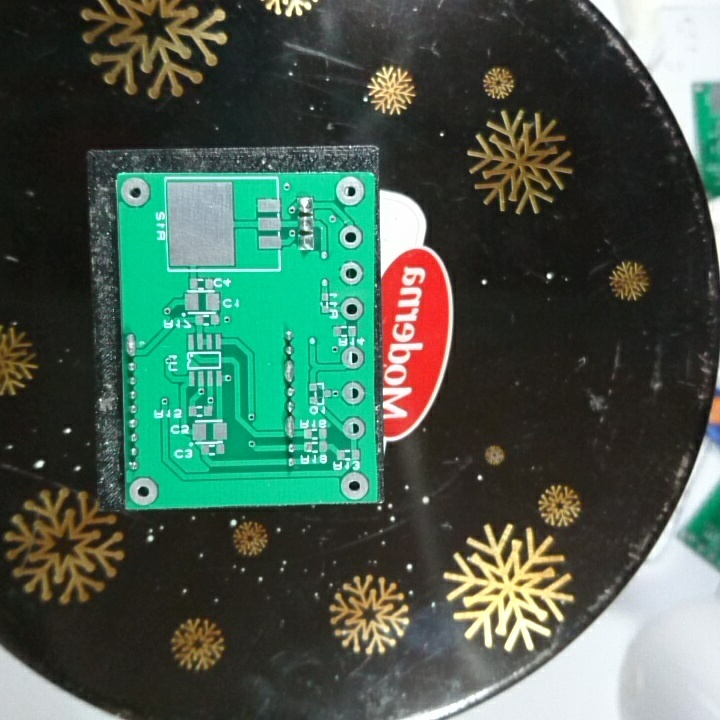F: (119, 175, 152, 209), (334, 175, 366, 207), (128, 475, 159, 507), (339, 470, 370, 499), (337, 223, 365, 252), (338, 295, 365, 323), (341, 414, 367, 443), (339, 380, 367, 406), (338, 261, 364, 288), (340, 346, 365, 372)
P: (122, 330, 139, 358), (282, 358, 297, 383), (282, 415, 297, 440)
